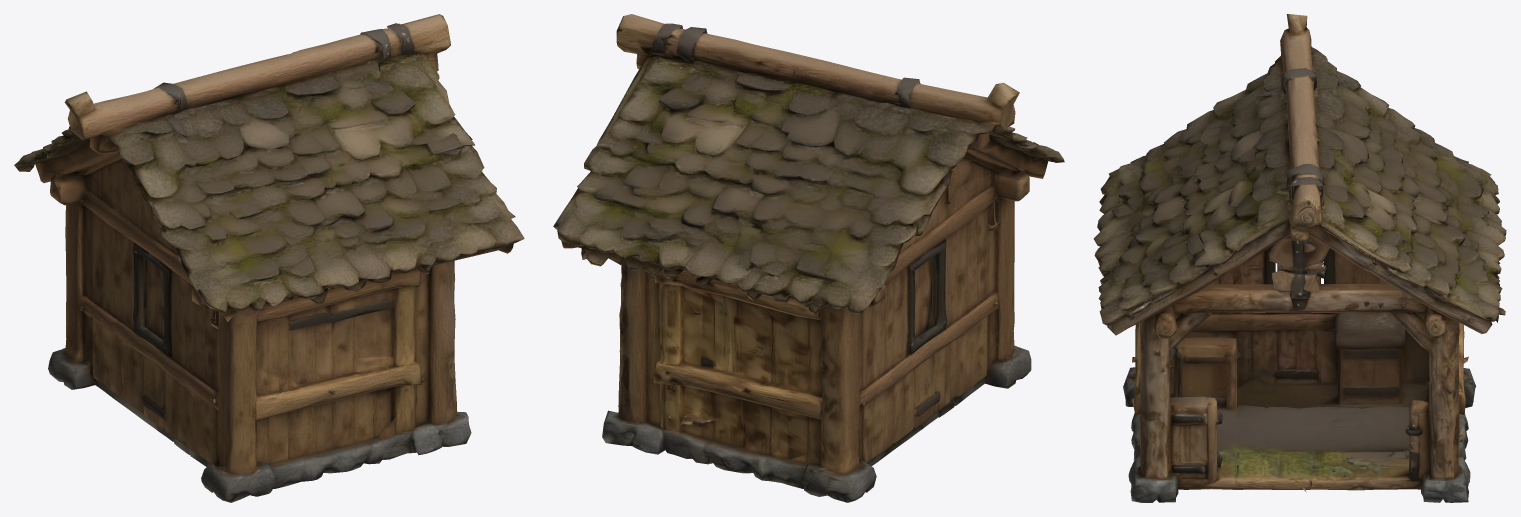
The model's file is townStable.glb.
3 views of the same model, side by side, from view 1: azimuth 30°, elevation 25°; view 2: azimuth 150°, elevation 25°; view 3: azimuth 270°, elevation 25° (orthographic). The views are drawn at different scales.
Visible parts, largest first — view 1: pb_node; view 2: pb_node; view 3: pb_node.
Boxes of the visible parts, x1,y1,x2,y2 form: pb_node: [14, 14, 524, 502]; pb_node: [553, 14, 1064, 502]; pb_node: [1093, 14, 1506, 502].
Bounding box in the file's own units: 1 × 0.9117 × 0.9757.
Materials: 1 (1 with a texture image).
